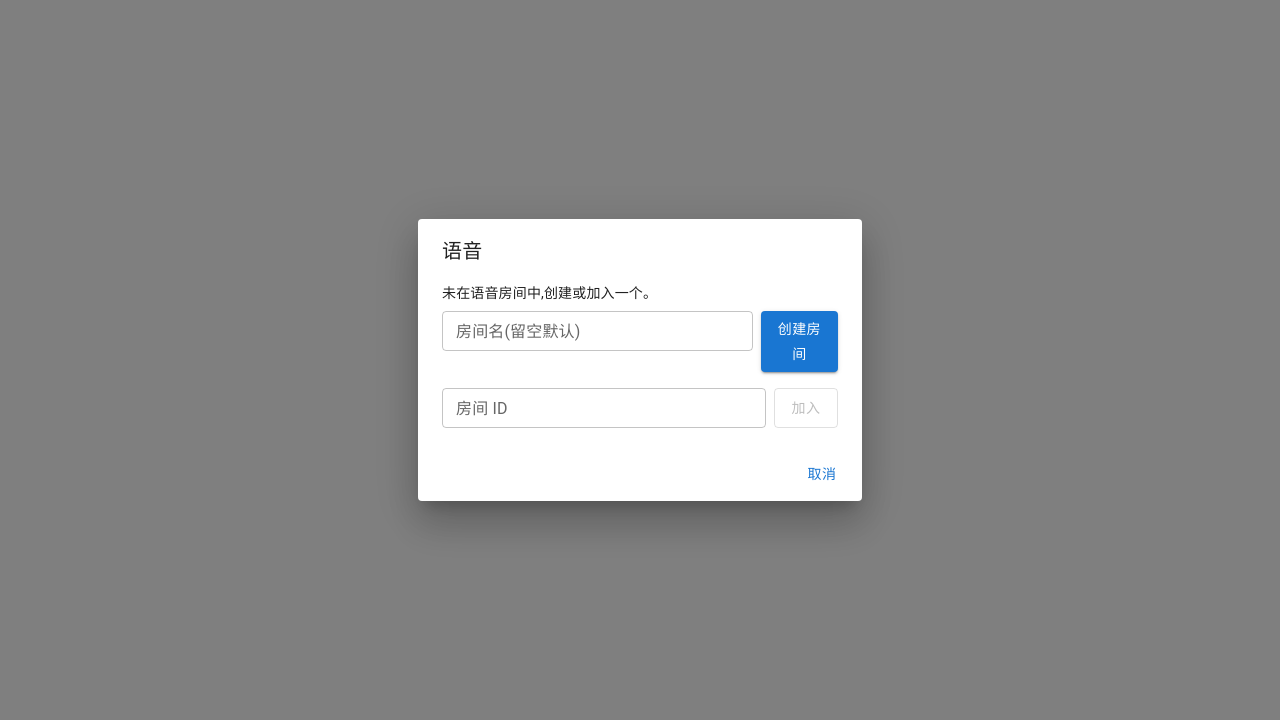
Test: VoiceDialog › shows join failure copy when joining a missing room
The image size is (1280, 720).
Type "no-such-room" into the field labelled "房间 ID".
click(604, 408); type("no-such-room")  # box [442, 388, 766, 428]
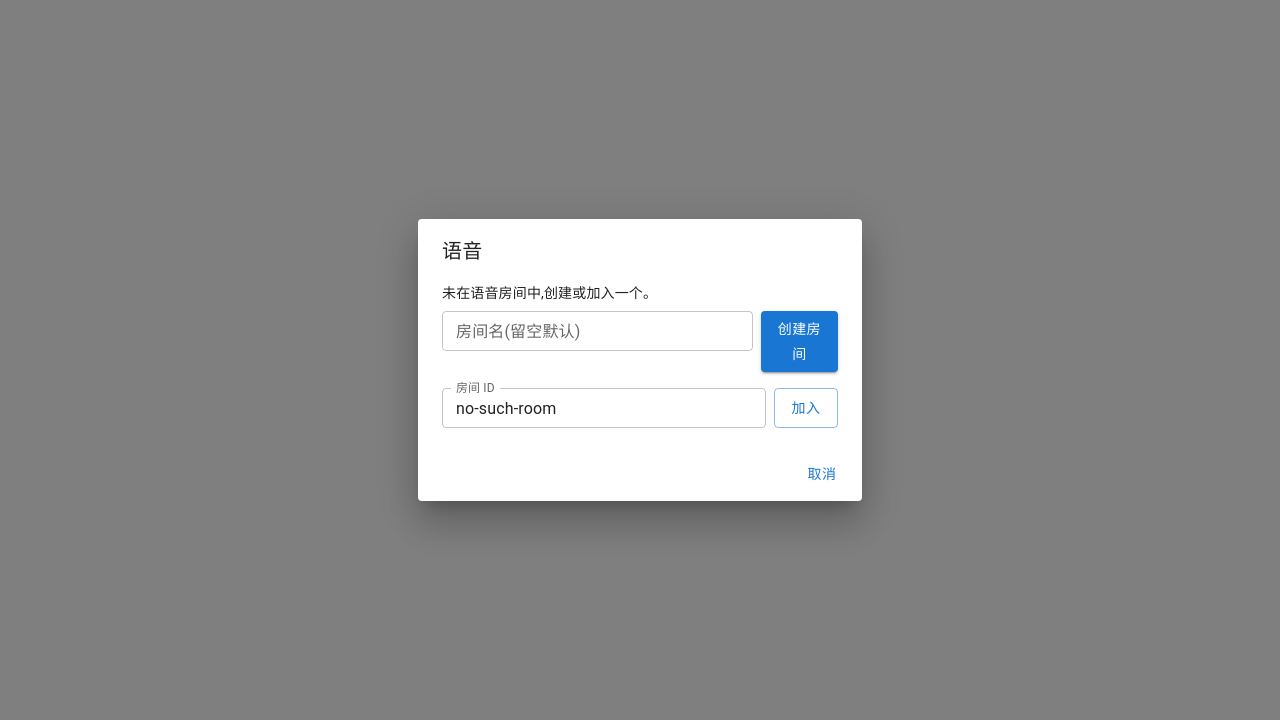
Click the button "加入".
click(806, 408)  # box [774, 388, 838, 428]
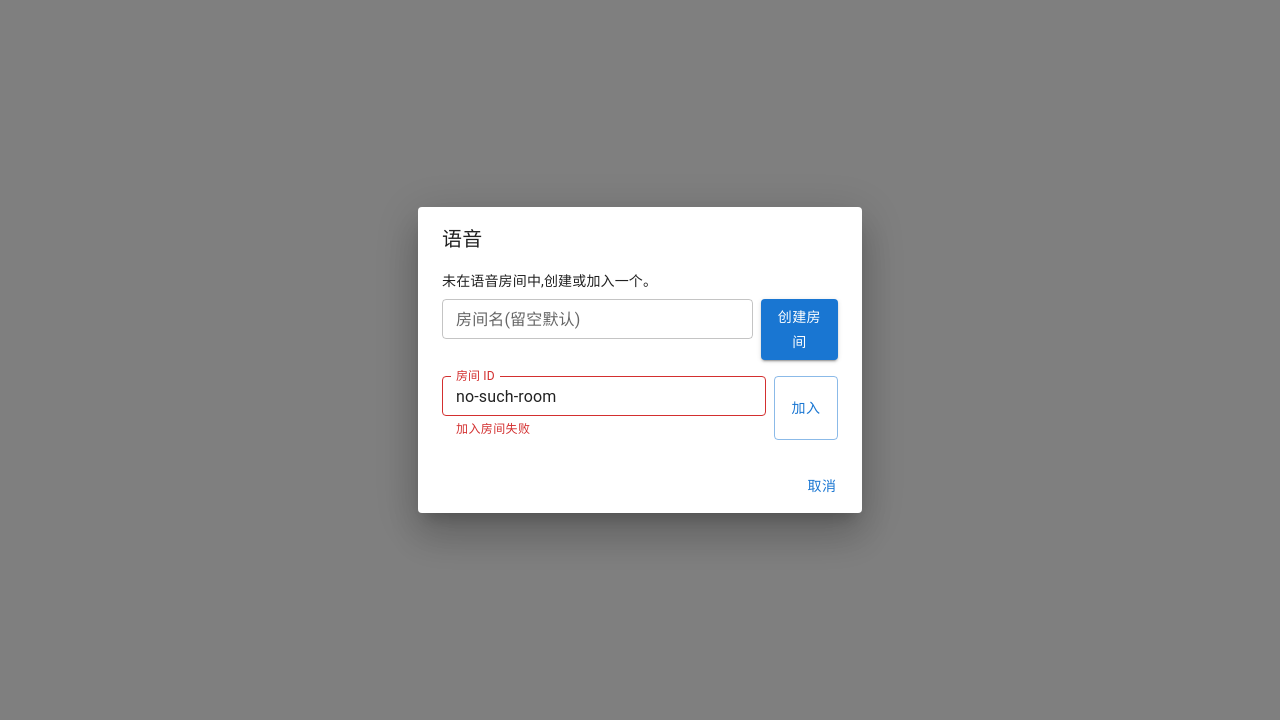
Check: the text "加入房间失败" is shown, box [456, 422, 530, 436]
